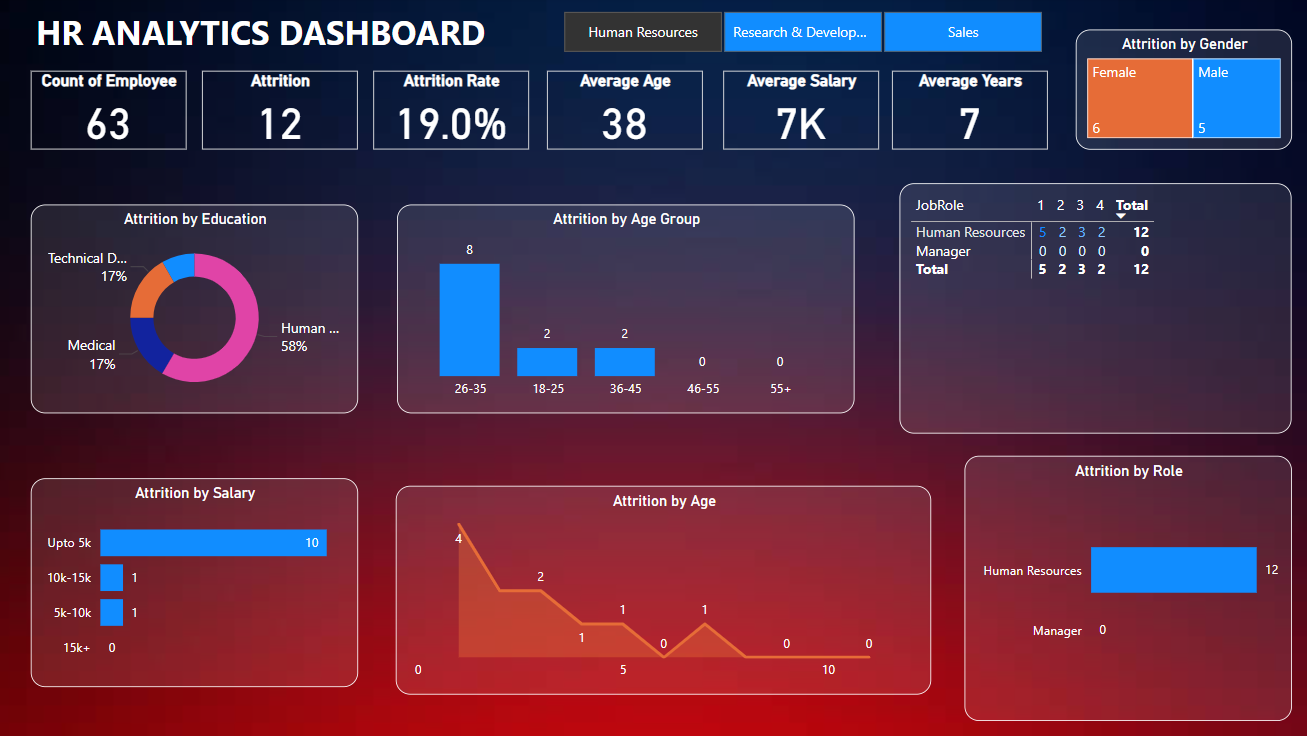

Layout of this report page (visuals, bound fields, positions):
{"tool":"powerbi","page":{"name":"Page 1","canvas":[1280,720],"ordinal":0},"visuals":[{"type":"card","title":"Count of Employee","fields":{"Values":["CountNonNull(HR_Analytics.EmpID)"]},"box":[37.4,71.1,150,75.7],"z":0},{"type":"card","title":"Attrition","fields":{"Values":["Sum(HR_Analytics.AttritionCount)"]},"box":[203.1,71.1,150,75.7],"z":1000},{"type":"card","title":"Attrition Rate","fields":{"Values":["HR_Analytics.AttritionRate"]},"box":[367.4,71.1,150,75.7],"z":2000},{"type":"card","title":"Average Age","fields":{"Values":["HR_Analytics.AverageAge"]},"box":[536,71.1,150,75.7],"z":3000},{"type":"card","title":"Average Salary","fields":{"Values":["HR_Analytics.AverageSalary"]},"box":[706,71.1,150,75.7],"z":4000},{"type":"card","title":"Average Years","fields":{"Values":["Avg(HR_Analytics.YearsAtCompany)"]},"box":[868.9,71.1,150,75.7],"z":5000},{"type":"donutChart","title":"Attrition by Education","fields":{"Category":["HR_Analytics.EducationField"],"Y":["Sum(HR_Analytics.AttritionCount)"]},"box":[37.4,199.7,315.7,201.4],"z":6000},{"type":"columnChart","title":"Attrition by Age Group","fields":{"Category":["HR_Analytics.AgeGroup"],"Y":["Sum(HR_Analytics.AttritionCount)"]},"box":[391.4,200,441.4,201.4],"z":7000},{"type":"pivotTable","title":"Job Satisfaction","fields":{"Rows":["HR_Analytics.JobRole"],"Columns":["HR_Analytics.JobSatisfaction"],"Values":["Sum(HR_Analytics.AttritionCount)"]},"box":[875.7,180,378.6,241.4],"z":8000},{"type":"barChart","title":"Attrition by Salary","fields":{"Category":["HR_Analytics.SalarySlab"],"Y":["Sum(HR_Analytics.AttritionCount)"]},"box":[37.1,464.3,315.7,201.4],"z":9000},{"type":"barChart","title":"Attrition by Role","fields":{"Y":["Sum(HR_Analytics.AttritionCount)"],"Category":["HR_Analytics.JobRole"]},"box":[938.6,442.9,315.7,255.7],"z":10000},{"type":"areaChart","title":"Attrition by Age","fields":{"Category":["HR_Analytics.YearsAtCompany"],"Y":["Sum(HR_Analytics.AttritionCount)"]},"box":[390,471.4,517.1,201.4],"z":11000},{"type":"treemap","title":"Attrition by Gender","fields":{"Group":["HR_Analytics.Gender"],"Values":["Sum(HR_Analytics.AttritionCount)"]},"box":[1045.7,31.4,208.6,115.7],"z":12000},{"type":"slicer","fields":{"Values":["HR_Analytics.Department"]},"box":[525.7,7.1,511.4,52.9],"z":13000},{"type":"textbox","box":[37.1,7.1,705.7,60],"z":13001}]}

Visuals, with their boxes in screenshot pixels (x1, y1, x2, y2), scaled from the page's 1280x720 canvas onto the 1307x736 screenshot:
"Count of Employee" card: l=38, t=73, r=191, b=150
"Attrition" card: l=207, t=73, r=361, b=150
"Attrition Rate" card: l=375, t=73, r=528, b=150
"Average Age" card: l=547, t=73, r=700, b=150
"Average Salary" card: l=721, t=73, r=874, b=150
"Average Years" card: l=887, t=73, r=1040, b=150
"Attrition by Education" donutChart: l=38, t=204, r=361, b=410
"Attrition by Age Group" columnChart: l=400, t=204, r=850, b=410
"Job Satisfaction" pivotTable: l=894, t=184, r=1281, b=431
"Attrition by Salary" barChart: l=38, t=475, r=360, b=680
"Attrition by Role" barChart: l=958, t=453, r=1281, b=714
"Attrition by Age" areaChart: l=398, t=482, r=926, b=688
"Attrition by Gender" treemap: l=1068, t=32, r=1281, b=150
slicer - HR_Analytics.Department: l=537, t=7, r=1059, b=61
textbox: l=38, t=7, r=758, b=69
